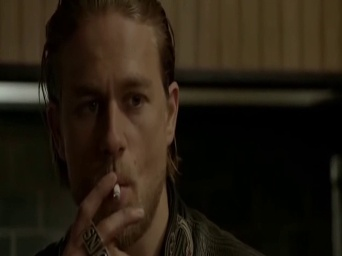smoke: (113, 179, 120, 202)
